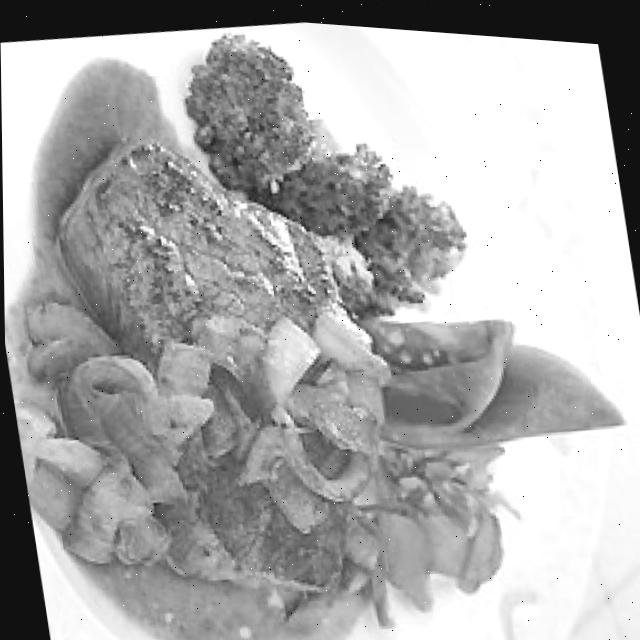牛肉菜式: (20, 85, 413, 640)
